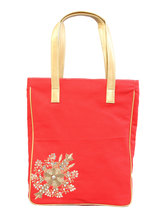bag: (24, 10, 145, 212)
